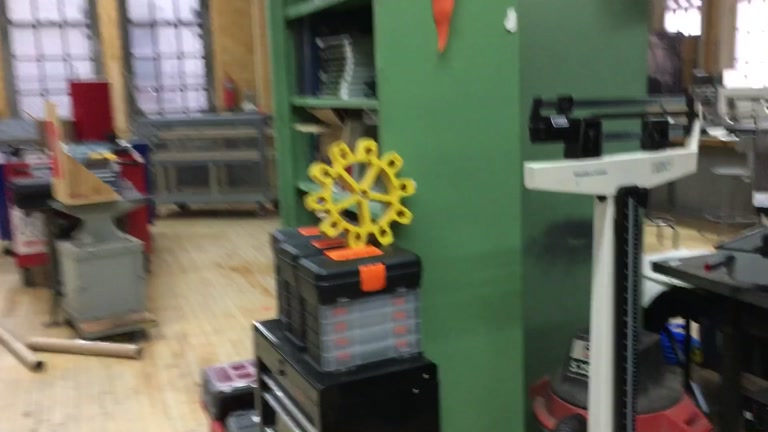gear: (305, 139, 417, 251)
